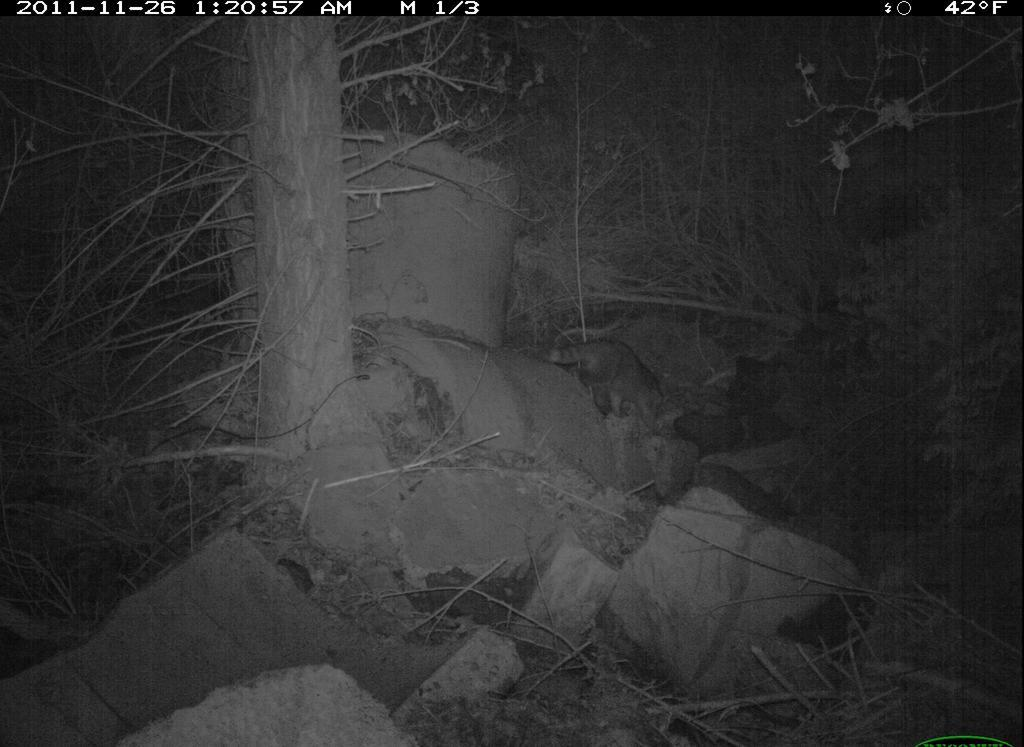raccoon: (525, 324, 674, 442)
